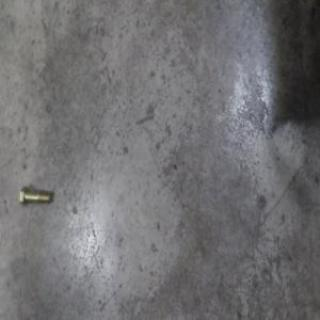Bolttrack_idkeyframe: (19, 191, 50, 214)
